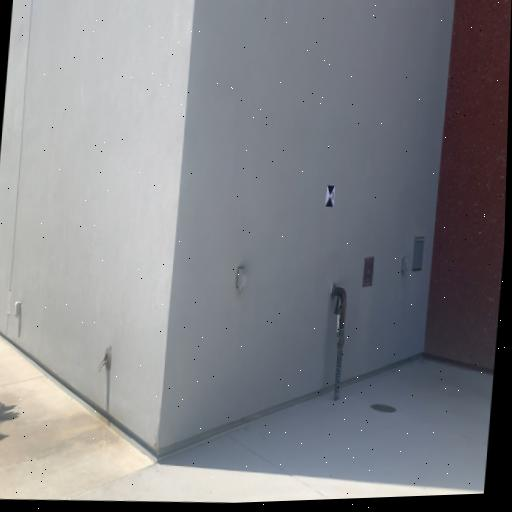target3: (325, 184, 335, 208)
